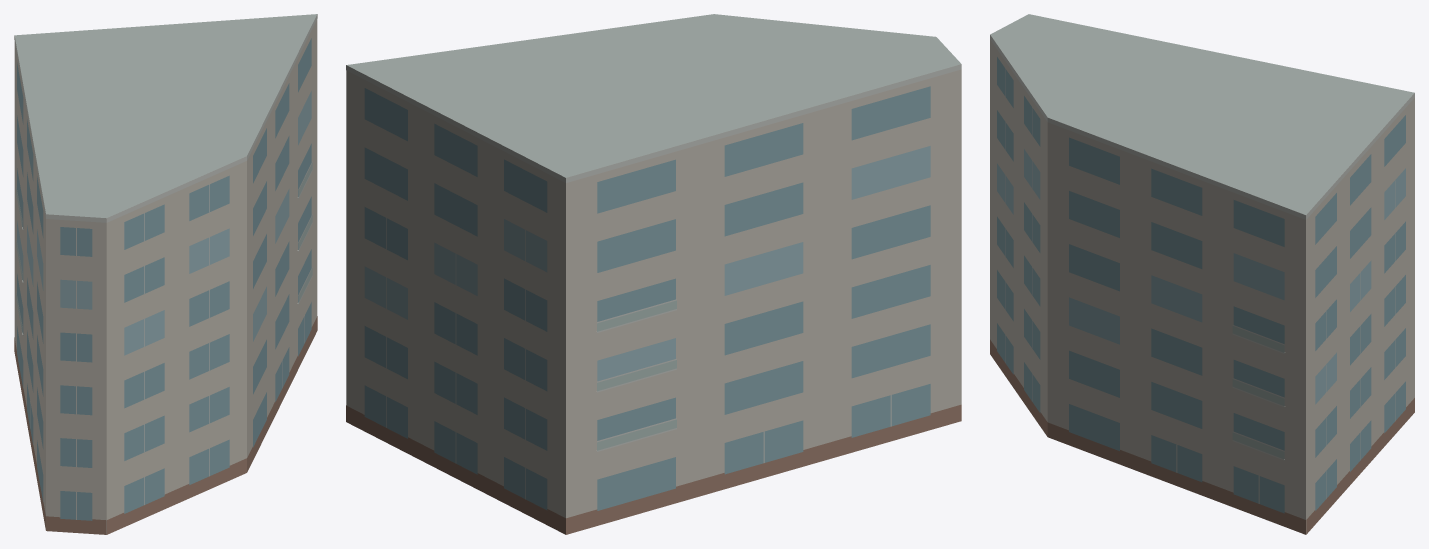
File: survey-upis-32955362.glb
3 views of the same model, side by side, from view 1: azimuth 30°, elevation 25°; view 2: azimuth 150°, elevation 25°; view 3: azimuth 270°, elevation 25° (orthographic). The views are drawn at different scales.
Parts seen in each view (by area): view 1: survey-upis-32955362.tmp; view 2: survey-upis-32955362.tmp; view 3: survey-upis-32955362.tmp.
Part boxes in pixels (x1=…): survey-upis-32955362.tmp: x1=14, y1=14, x2=317, y2=534; survey-upis-32955362.tmp: x1=346, y1=14, x2=961, y2=534; survey-upis-32955362.tmp: x1=990, y1=14, x2=1414, y2=534.
Bounding box in the file's own units: 22.43 × 16.6 × 20.
